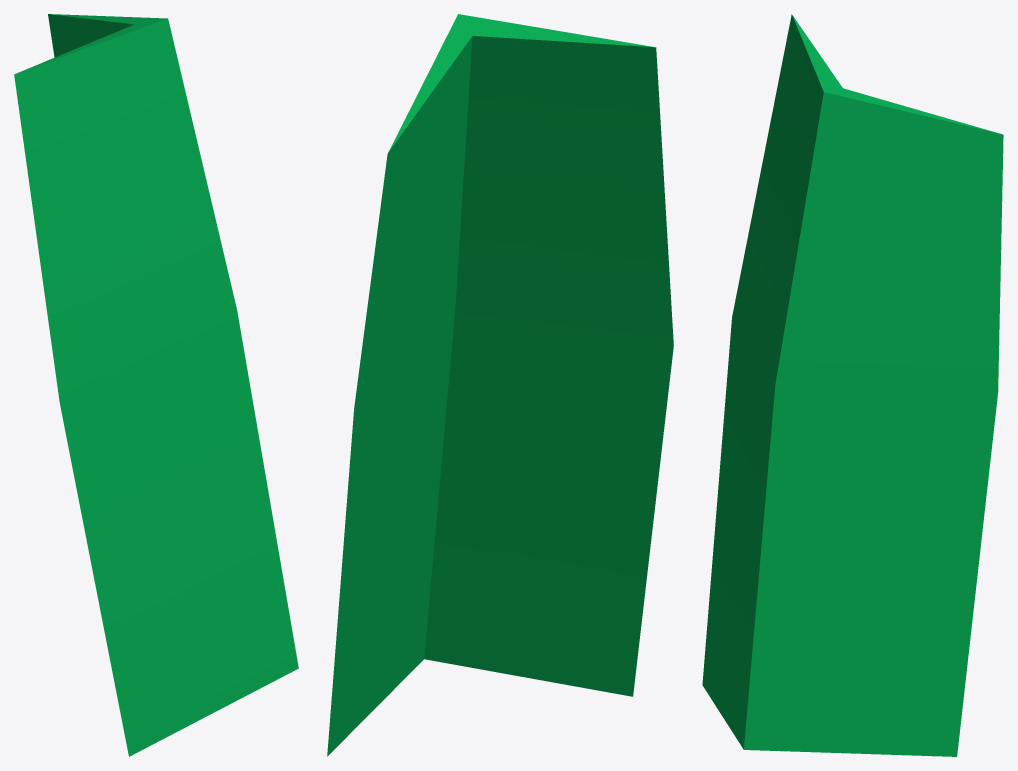
The model's file is shortGrassC.fbx.
3 views of the same model, side by side, from view 1: azimuth 30°, elevation 25°; view 2: azimuth 150°, elevation 25°; view 3: azimuth 270°, elevation 25° (orthographic). The views are drawn at different scales.
Visible parts, largest first — view 1: ShortGrassC; view 2: ShortGrassC; view 3: ShortGrassC.
Boxes of the visible parts, x1,y1,x2,y2 form: ShortGrassC: (14, 14, 298, 756); ShortGrassC: (327, 14, 673, 756); ShortGrassC: (702, 14, 1003, 756).
Size of the model in its own units: 1.32 by 3.24 by 1.38.
